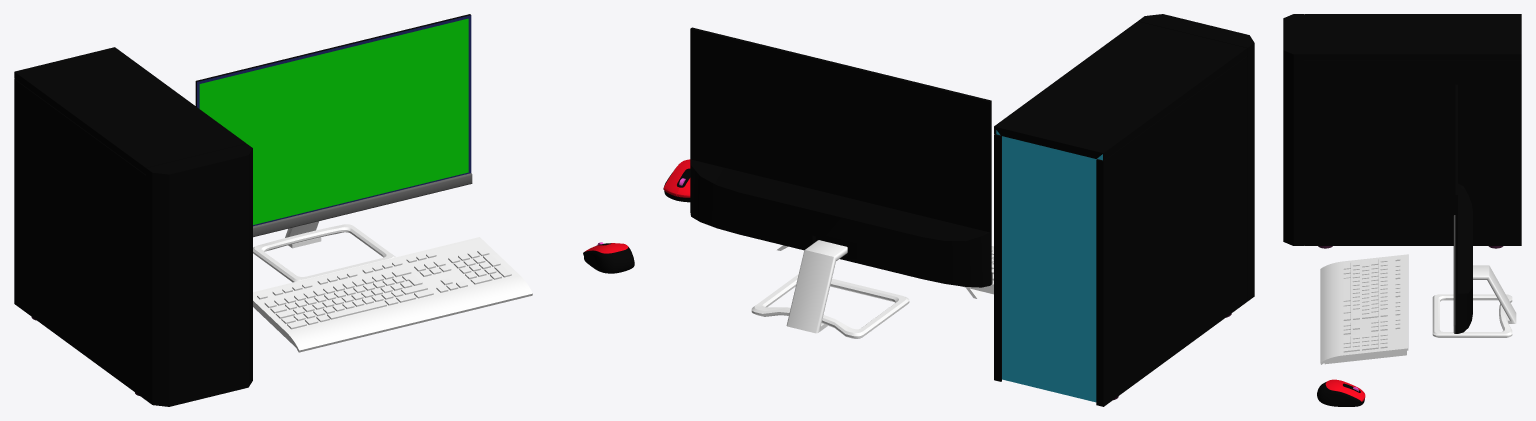
The model's file is terminal_v1.fbx.
The picture shows the model from 3 angles, left to right: view 1: azimuth 30°, elevation 25°; view 2: azimuth 150°, elevation 25°; view 3: azimuth 270°, elevation 25°; orthographic projection. The views are drawn at different scales.
Visible parts, largest first — view 1: terminal_computer, terminal_screen, terminal_keyboard, terminal_screen_stand, terminal_mouse; view 2: terminal_computer, terminal_screen, terminal_screen_stand, terminal_mouse; view 3: terminal_computer, terminal_keyboard, terminal_screen, terminal_screen_stand, terminal_mouse.
Part boxes in pixels (x1,y1,x2,y2): terminal_computer: [14, 47, 252, 406]; terminal_screen: [195, 14, 472, 237]; terminal_keyboard: [253, 237, 532, 352]; terminal_screen_stand: [253, 221, 395, 282]; terminal_mouse: [583, 242, 634, 273]; terminal_computer: [994, 14, 1254, 406]; terminal_screen: [690, 27, 992, 287]; terminal_screen_stand: [751, 240, 909, 338]; terminal_mouse: [663, 159, 690, 202]; terminal_computer: [1283, 14, 1521, 248]; terminal_keyboard: [1320, 254, 1408, 364]; terminal_screen: [1453, 84, 1472, 333]; terminal_screen_stand: [1432, 265, 1516, 337]; terminal_mouse: [1317, 379, 1365, 406].
Size of the model in its own units: 0.9891 by 0.4453 by 0.492.
